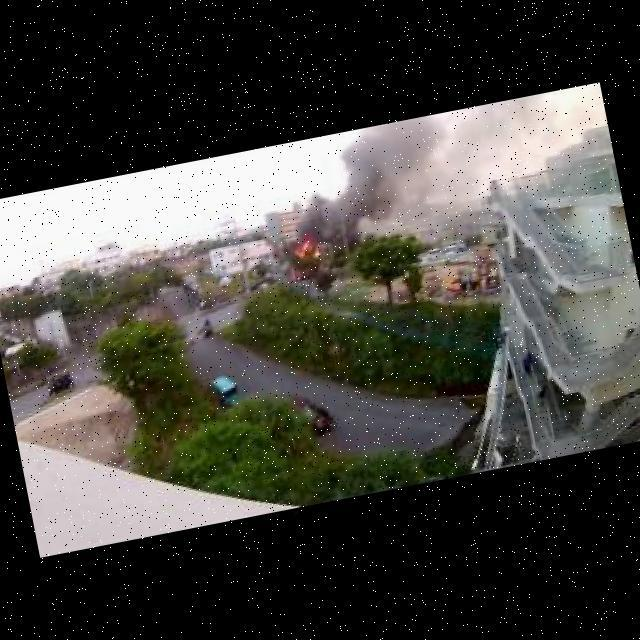Fire: (295, 239, 320, 259)
Smoke: (288, 161, 433, 244), (343, 110, 476, 197)
